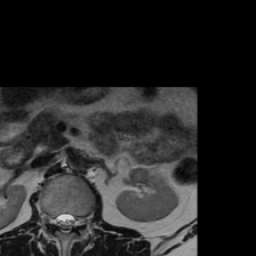CCS_normal: (62, 208, 69, 237)
LFS_normal: (77, 210, 84, 229)
LLS_normal: (69, 207, 76, 235)
RFS_stenosis: (47, 210, 55, 228)
RLS_normal: (55, 208, 62, 234)
